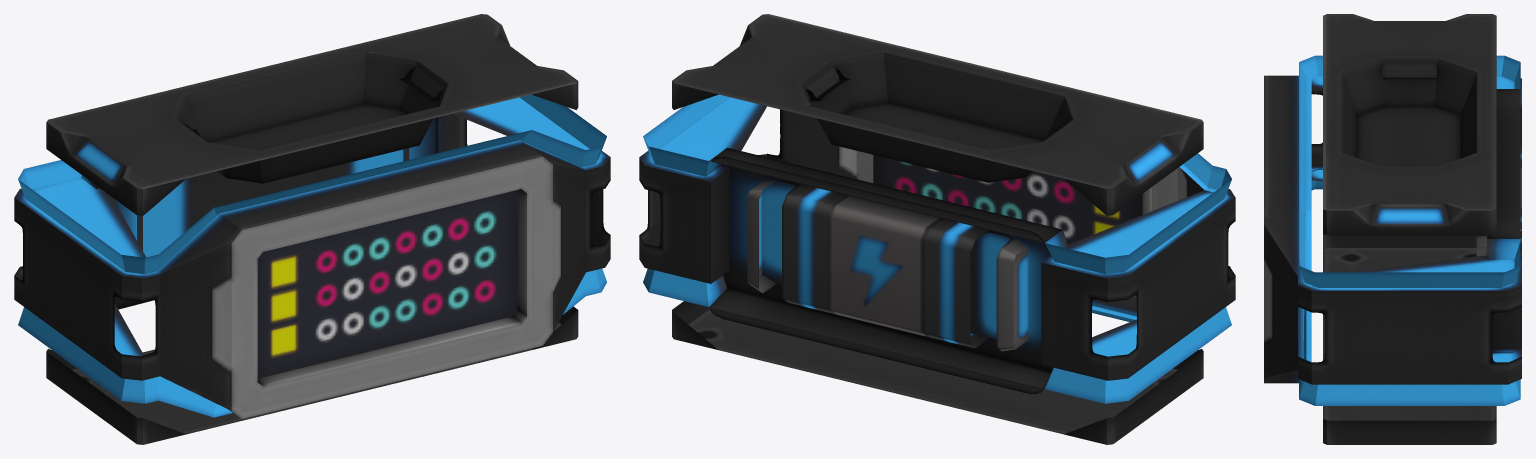
Rendered from obj_interactive_controller_05.fbx.
3 views of the same model, side by side, from view 1: azimuth 30°, elevation 25°; view 2: azimuth 150°, elevation 25°; view 3: azimuth 270°, elevation 25° (orthographic). The views are drawn at different scales.
Visible parts, largest first — view 1: obj_interactive_controller_05; view 2: obj_interactive_controller_05; view 3: obj_interactive_controller_05.
Part boxes in pixels (bbox=[...]): obj_interactive_controller_05: bbox=[14, 14, 610, 444]; obj_interactive_controller_05: bbox=[639, 14, 1235, 444]; obj_interactive_controller_05: bbox=[1264, 14, 1521, 444].
Bounding box in the file's own units: 2 × 1 × 0.9991.
